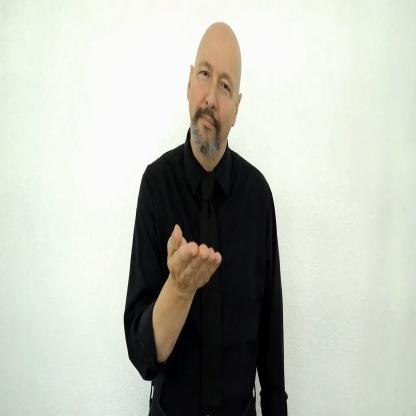ThankYou: (123, 22, 288, 416)
